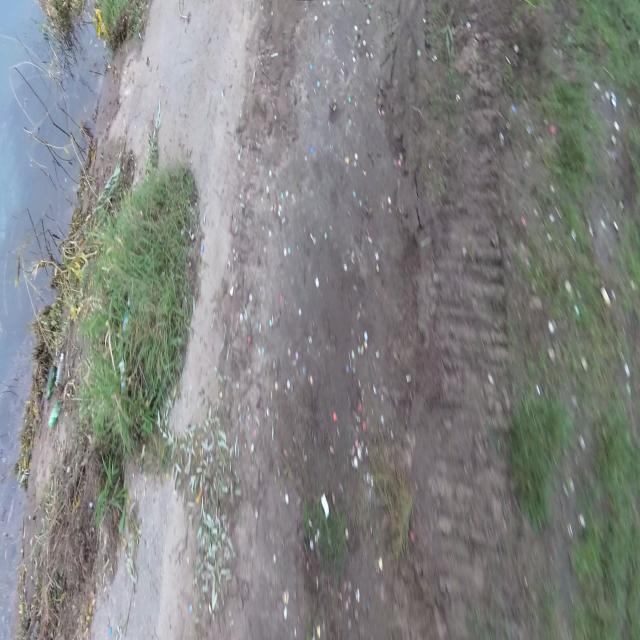rubbish: (121, 287, 131, 344), (46, 400, 62, 432), (118, 360, 131, 392), (46, 362, 57, 398), (320, 489, 331, 522), (55, 352, 65, 387)
